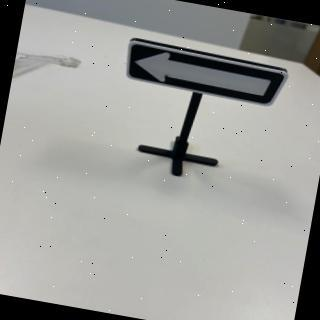sign_oneway_left: (117, 34, 293, 112)
